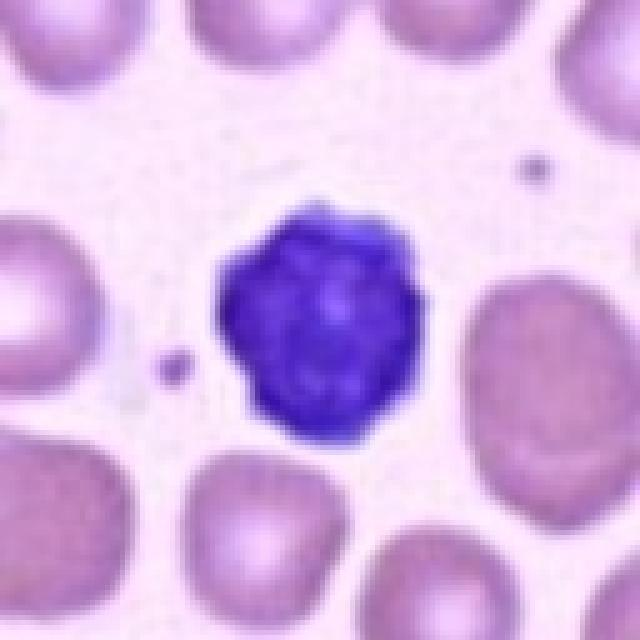lympho: (207, 190, 431, 454)
